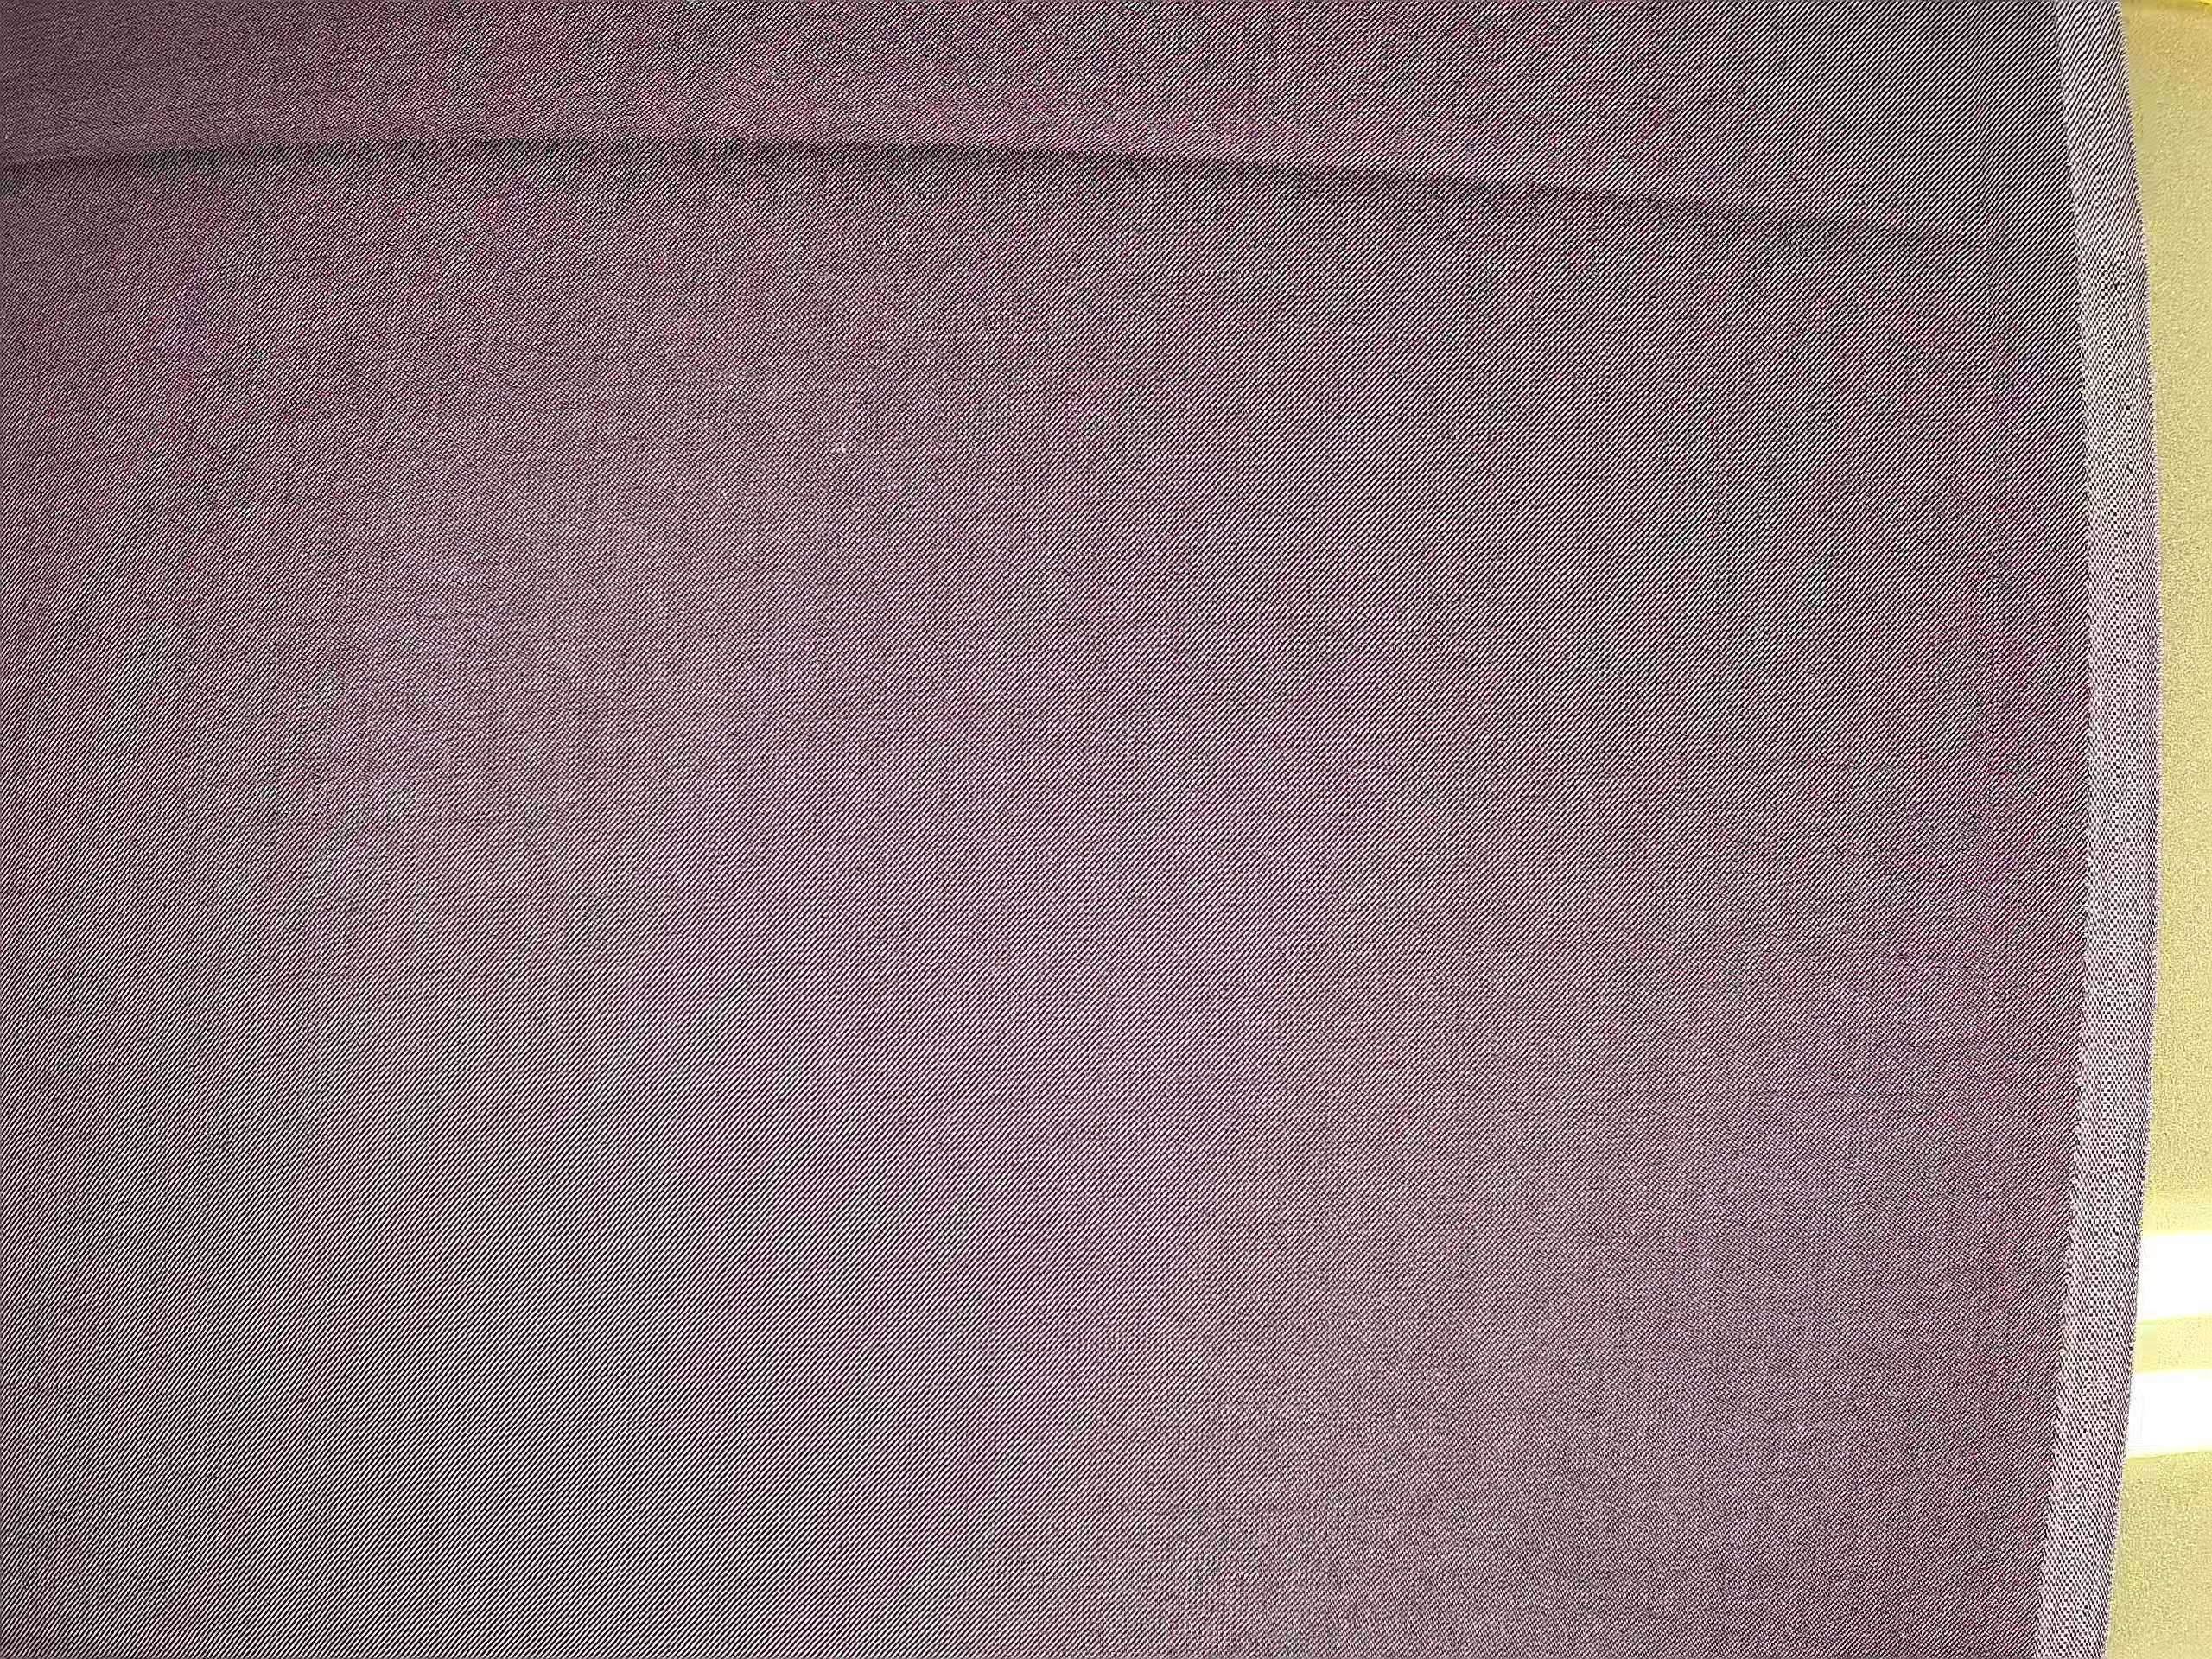hanging-warp: (1963, 113, 2024, 908)
